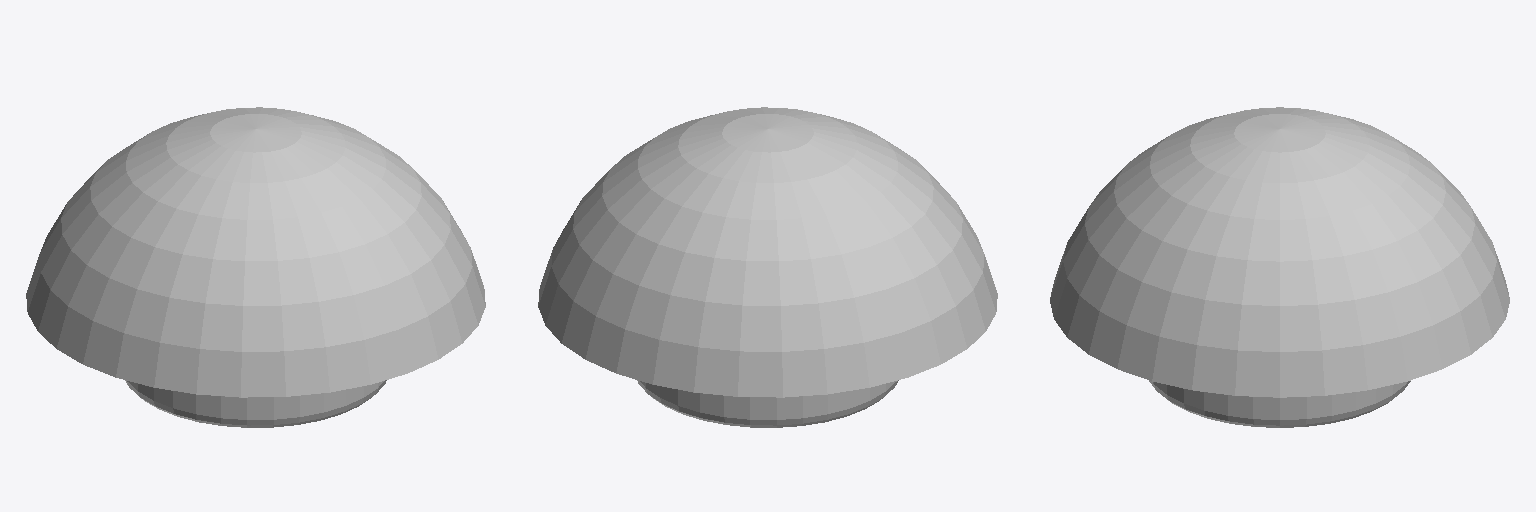
File: fungo1.obj
3 renders of one model, left to right at view 1: azimuth 30°, elevation 25°; view 2: azimuth 150°, elevation 25°; view 3: azimuth 270°, elevation 25°, orthographic.
Visible parts, largest first — view 1: Sfera, Score1_Cylinder.005; view 2: Sfera, Score1_Cylinder.005; view 3: Sfera, Score1_Cylinder.005.
Part boxes in pixels (x1,y1,x2,y2): Sfera: (26,107,485,397); Score1_Cylinder.005: (125,380,386,427); Sfera: (538,107,997,397); Score1_Cylinder.005: (637,380,898,427); Sfera: (1050,107,1509,397); Score1_Cylinder.005: (1149,381,1410,427).
Size of the model in its own units: 0.9808 by 0.5961 by 0.9808.